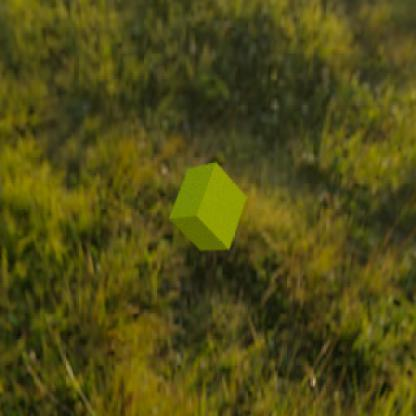cube: (168, 161, 246, 250)
